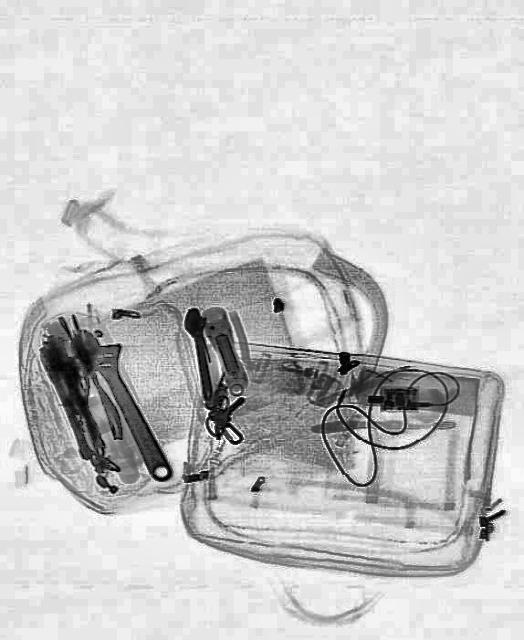Pliers: (54, 324, 122, 450)
Wrench: (65, 314, 188, 488), (181, 306, 219, 400)
